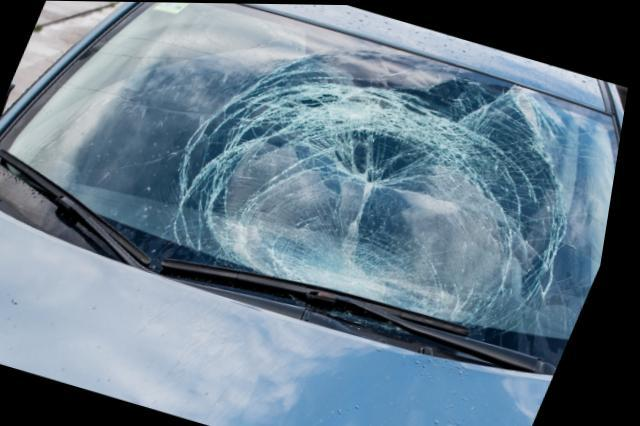glass shatter: (0, 2, 623, 366)
